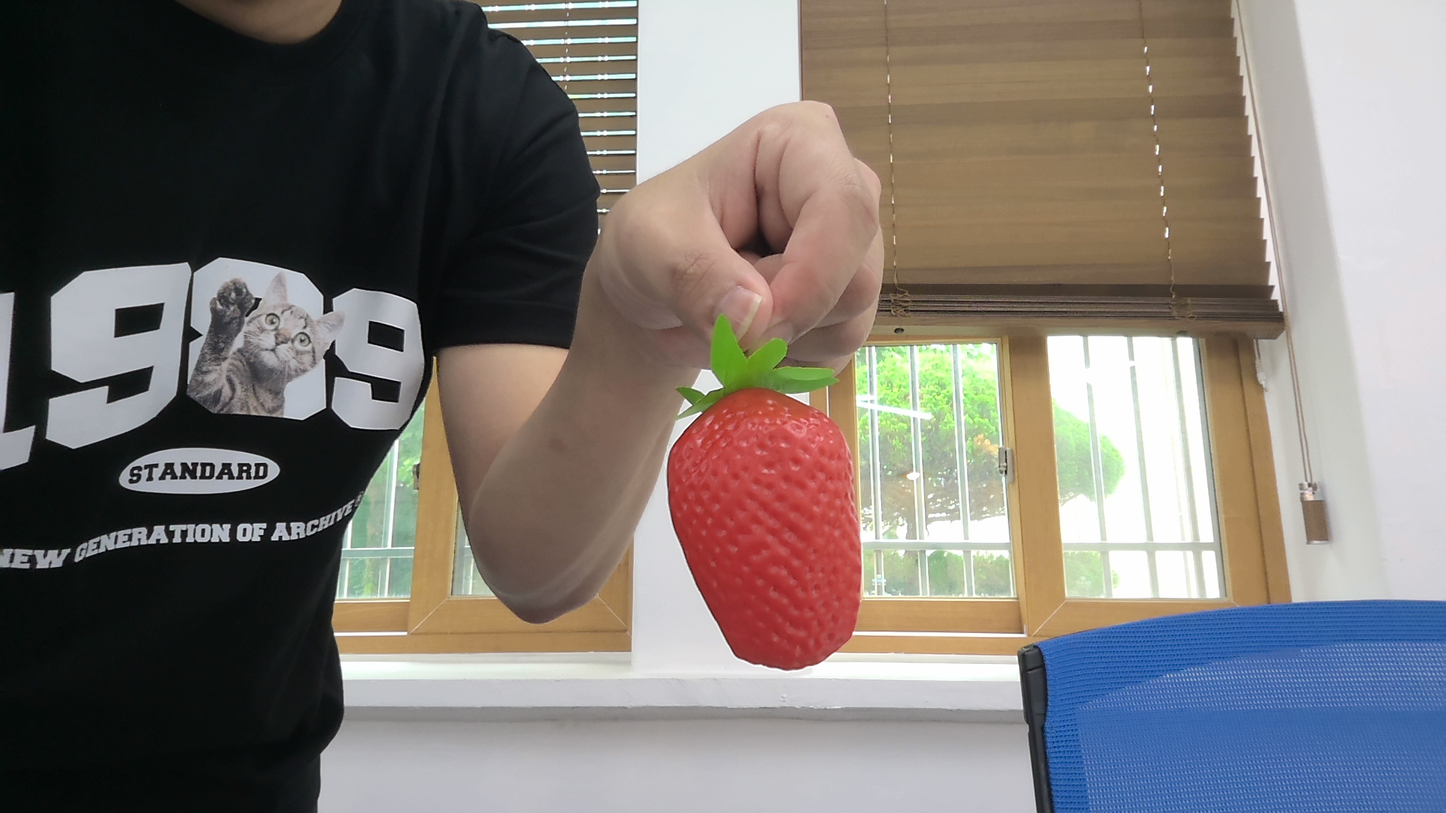strawberry: (654, 377, 883, 671)
